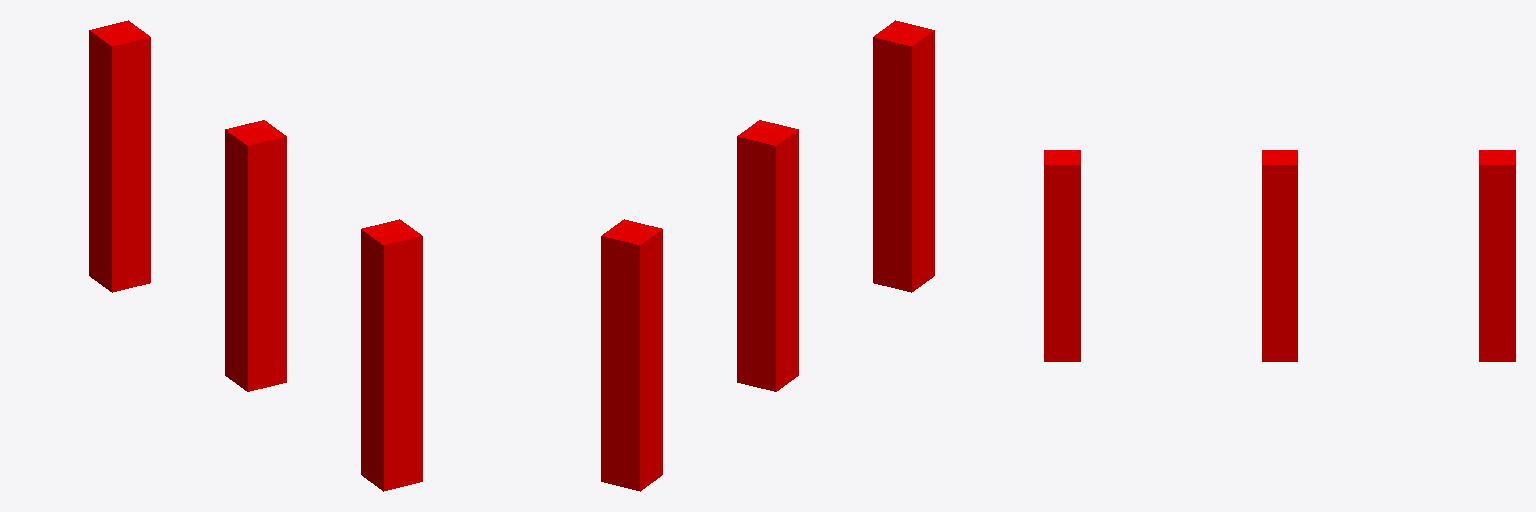
URDF robot description (pillar):
<?xml version ="1.0"?>
<robot name ="pillar">
  <link name="PILLAR"/>
  <joint name="fwf" type="fixed">
    <parent link="PILLAR"/>
    <child link="pillar1"/>

  </joint >
  <link name="pillar1">


    	<collision>
    		<geometry>
    				<box size="0.1 .1 .60"/>
    		</geometry>
    		<origin rpy="0 0 0" xyz="0 0 0"/>
    	</collision>
    <visual>
    	<geometry>
    	<box size="0.1 0.1 .60"/>
    	</geometry>
    	<origin rpy="0 0 0" xyz="0 0 0"/>
    <material name="red">
    	<color rgba="1 0 0 1"/>
    </material>
  </visual>


  <inertial>
  	<origin rpy="0 0 0" xyz="0 0 0"/>
  	<mass value="10"/>
  	<inertia ixx="1" ixy="0" ixz="0"
  		 iyy="1" iyz="0.0"
  		 izz="1"/>
  	 </inertial>
</link>
<joint name="l1tol2" type="fixed">
  <parent link="pillar1"/>
  <child link="pillar2"/>
  <origin xyz="0 0.6 0"/>
</joint>

<link name="pillar2">

    <collision>
      <geometry>
    	<box size="0.1 .1 .60"/>
      </geometry>
      <origin rpy="0 0 0" xyz="0 0 0"/>
    </collision>
  <visual>
    <geometry>
    <box size="0.1 .1 .60"/>
    </geometry>
    <origin rpy="0 0 0" xyz="0 0 0"/>
  <material name="red">
    <color rgba="1 0 0 1"/>
  </material>
</visual>


<inertial>
  <origin rpy="0 0 0" xyz="0 0 0"/>
  <mass value="10"/>
  <inertia ixx="1" ixy="0" ixz="0"
     iyy="1" iyz="0.0"
     izz="1"/>
   </inertial>
</link>

<link name="base_link_pillar"> </link>
<joint name="pillar_to_base" type="fixed">
<parent link="pillar2"/>
<child link="base_link_pillar"/>
 <origin rpy="-1 0 0" xyz="0 0 0"/>
</joint>

<joint name="l2tol3" type="fixed">
  <parent link="pillar1"/>
  <child link="pillar3"/>
  <origin xyz="0 -0.6 0"/>
</joint>

<link name="pillar3">

    <collision>
      <geometry>
    	<box size="0.1 .1 .60"/>
      </geometry>
      <origin rpy="0 0 0" xyz="0 0 0"/>
    </collision>
  <visual>
    <geometry>
    <box size="0.1 .1 .60"/>
    </geometry>
    <origin rpy="0 0 0" xyz="0 0 0"/>
  <material name="red">
    <color rgba="1 0 0 1"/>
  </material>
</visual>


<inertial>
  <origin rpy="0 0 0" xyz="0 0 0"/>
  <mass value="10"/>
  <inertia ixx="1" ixy="0" ixz="0"
     iyy="1" iyz="0.0"
     izz="1"/>
   </inertial>
</link>



<!--
<gazebo reference="base_link">
   <material>Gazebo/Grey</material>
 </gazebo> -->

<gazebo reference="pillar1">

<material>Gazebo/Red</material>
</gazebo>
<material name="Red">
  <color rgba="1.0 0.0 0.0 1"/>
</material>
<gazebo reference="pillar2">

<material>Gazebo/Red</material>
</gazebo>
<material name="Red2">
  <color rgba="1.0 0.0 0.0 1"/>
</material>
<gazebo reference="pillar3">

<material>Gazebo/Red</material>
</gazebo>
<material name="Red1">
  <color rgba="1.0 0.0 0.0 1"/>
</material>
</robot>

--- Facts derived from the render (not from the file) ---
3 views of the same robot in one strip: view 1: azimuth 30°, elevation 25°; view 2: azimuth 150°, elevation 25°; view 3: azimuth 270°, elevation 25° (orthographic).
Robot: pillar — 5 links, 4 joints (4 fixed); root link PILLAR; default pose: all joints at 0.
Visible links, largest first — view 1: pillar1, pillar2, pillar3; view 2: pillar1, pillar2, pillar3; view 3: pillar2, pillar3, pillar1.
Link boxes in pixels (box(x1,y1,x2,y2)): pillar1: box(225, 120, 286, 391); pillar2: box(89, 20, 150, 292); pillar3: box(361, 219, 422, 491); pillar1: box(737, 120, 798, 391); pillar2: box(601, 219, 662, 491); pillar3: box(873, 20, 934, 292); pillar2: box(1479, 150, 1515, 361); pillar3: box(1044, 150, 1080, 361); pillar1: box(1262, 150, 1297, 361).
Bounding box of the posed robot: 0.1 × 1.3 × 0.6 m (x, y, z).
Geometry: primitives only (box / cylinder / sphere), no mesh files.
